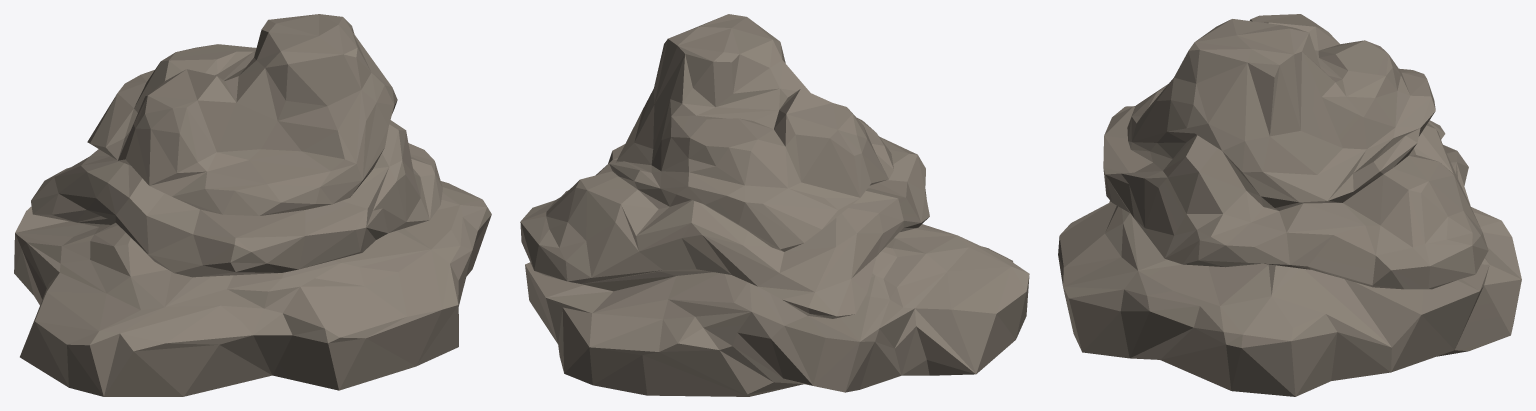
File: SM_Env_Rock_Large_06.glb
The picture shows the model from 3 angles, left to right: view 1: azimuth 30°, elevation 25°; view 2: azimuth 150°, elevation 25°; view 3: azimuth 270°, elevation 25°; orthographic projection. The views are drawn at different scales.
Visible parts, largest first — view 1: SM_Env_Rock_Large_06; view 2: SM_Env_Rock_Large_06; view 3: SM_Env_Rock_Large_06.
Part boxes in pixels (x1=…): SM_Env_Rock_Large_06: x1=14, y1=14, x2=491, y2=396; SM_Env_Rock_Large_06: x1=520, y1=14, x2=1029, y2=396; SM_Env_Rock_Large_06: x1=1058, y1=14, x2=1521, y2=396.
Size of the model in its own units: 0.0938 by 0.0573 by 0.0805.
Materials: 1 (1 with a texture image).
